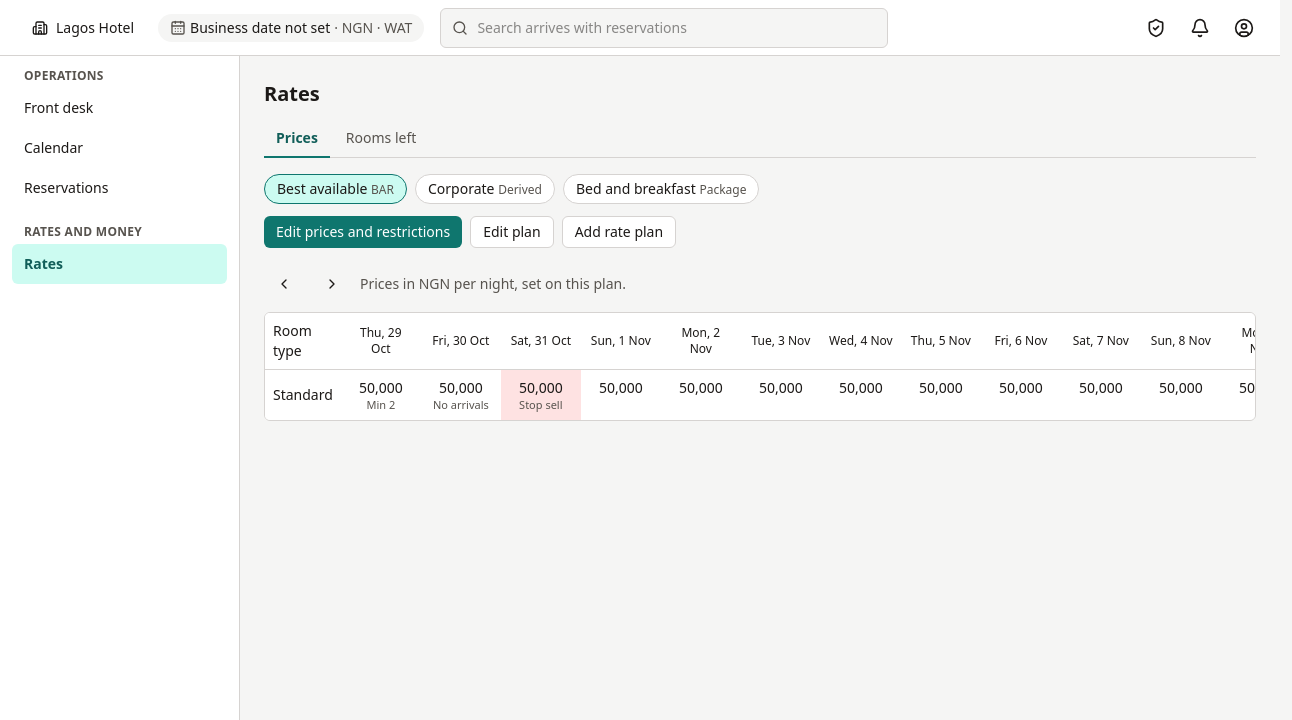
it: Rate calendar › explains a derived plan and shows its worked-out prices
Click the tab "Corporate Derived". click: (485, 189)
box: x1=415 y1=174 x2=555 y2=204
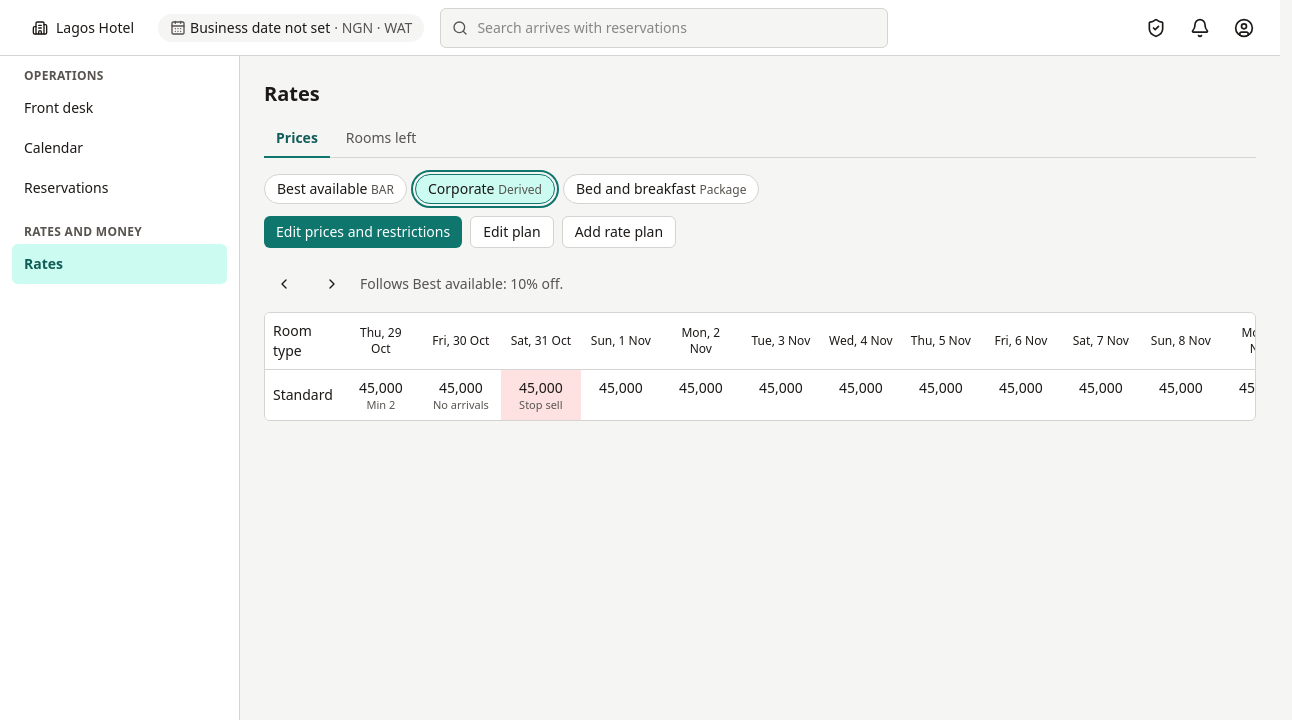
Expected: the text "Follows Best available: 10% off." is shown, x1=360 y1=274 x2=563 y2=294
Expected: the cell "45,000 Min 2" is shown, x1=341 y1=370 x2=421 y2=420
